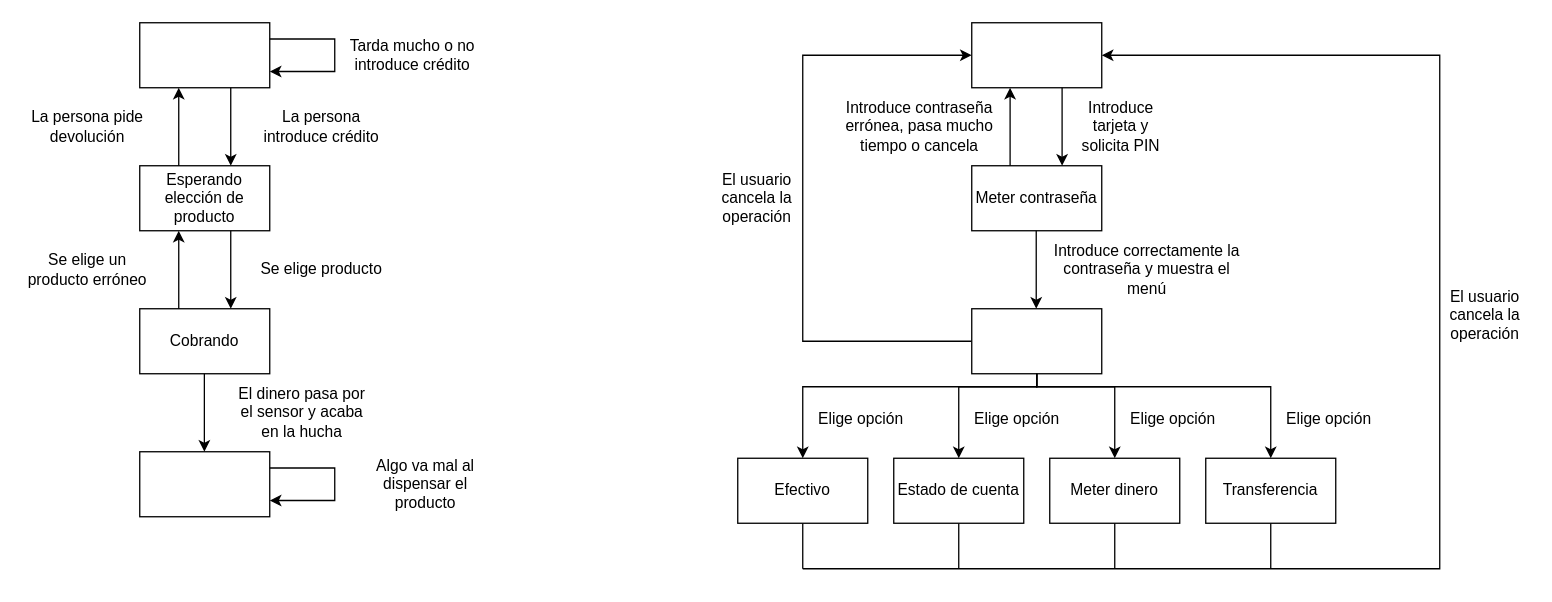
The diagram is 1552 pixels wide and 602 high, and some of its shapes have lost their labels. The centre of each missing label's shape, as x and y in pixels:
"Dispensando" belongs at (204,483).
"Esperando introducción de crédito" belongs at (204,54).
"Introducir tarjeta" belongs at (1036,54).
"Menú de opciones" belongs at (1036,340).
